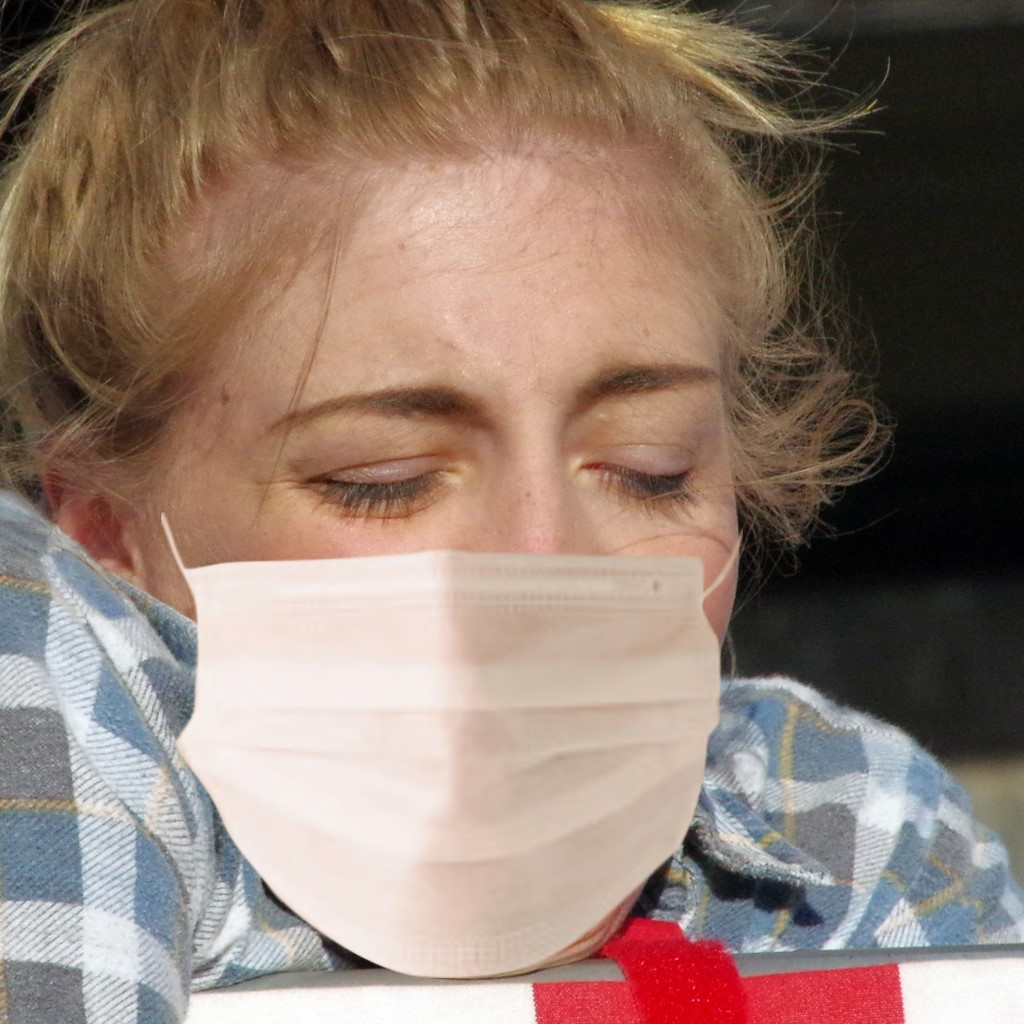con_mascara: (115, 95, 735, 961)
